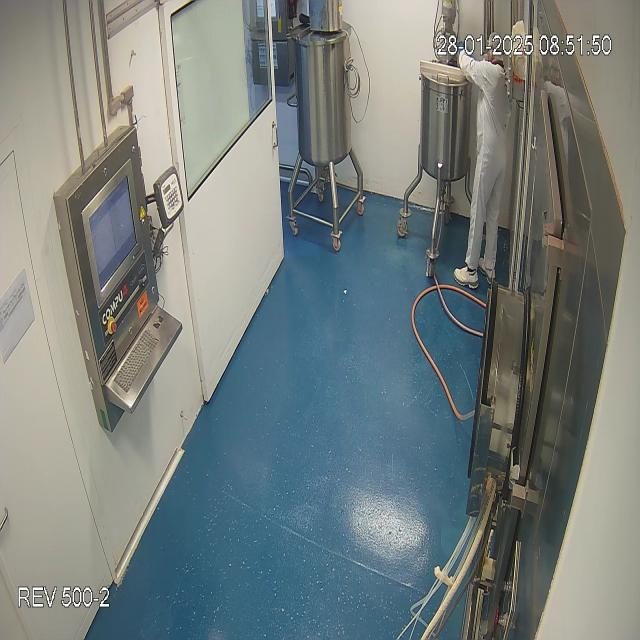bota: (454, 253, 498, 292)
pessoa: (452, 31, 508, 302)
touca: (484, 23, 506, 65)
